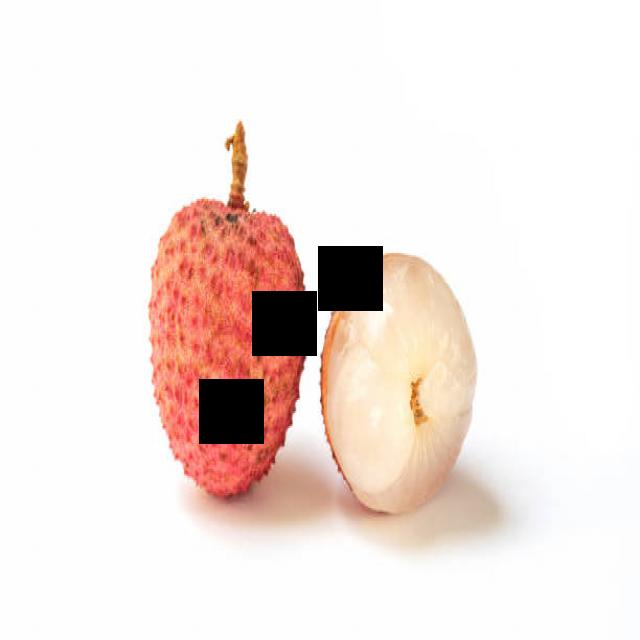lychee: (147, 183, 474, 525)
